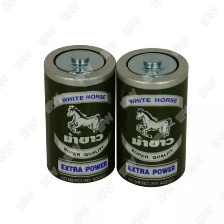battery: (40, 40, 116, 187), (113, 45, 189, 189)
